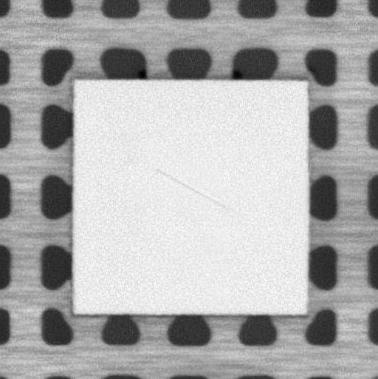DIE_CRACK: (154, 167, 229, 211)
